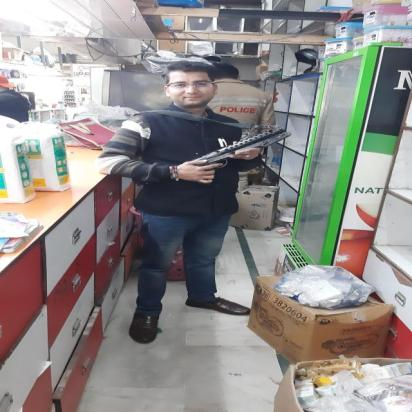Gun: (176, 125, 294, 186)
